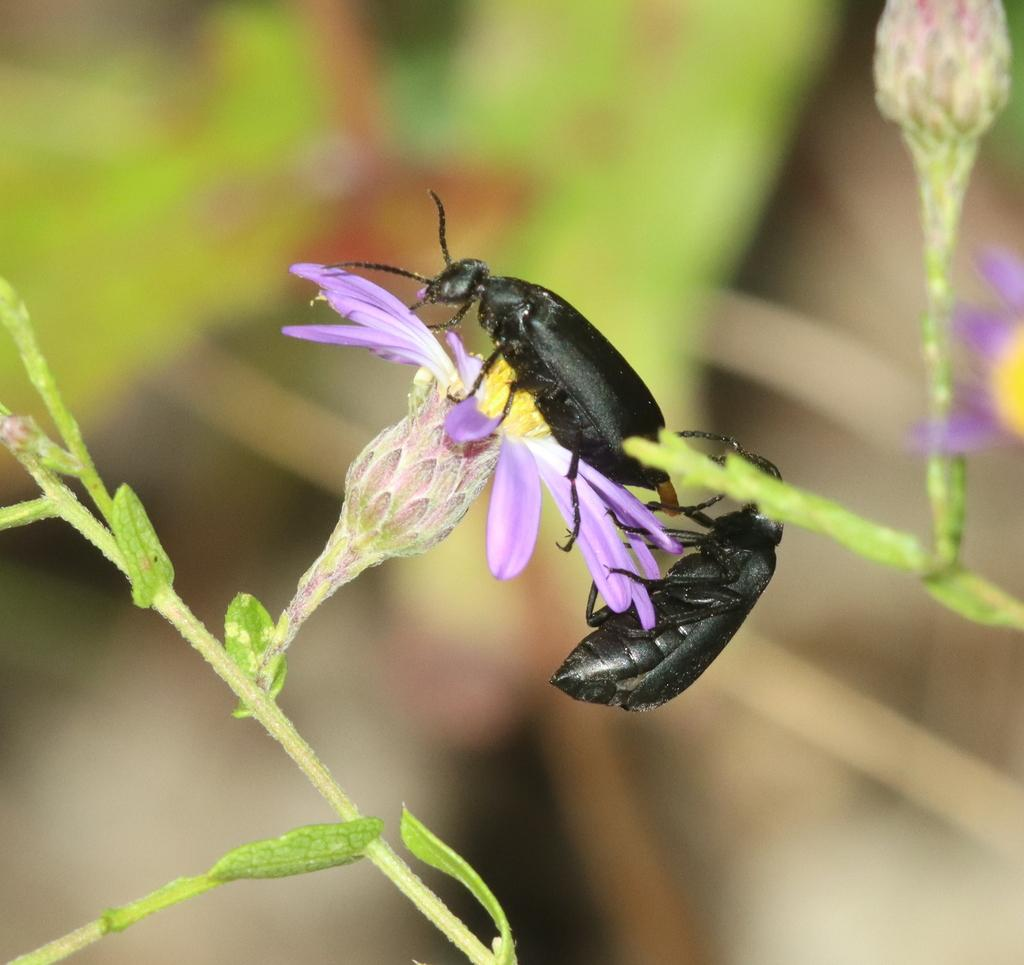blister_beetle: (303, 162, 747, 580), (474, 401, 862, 735)
